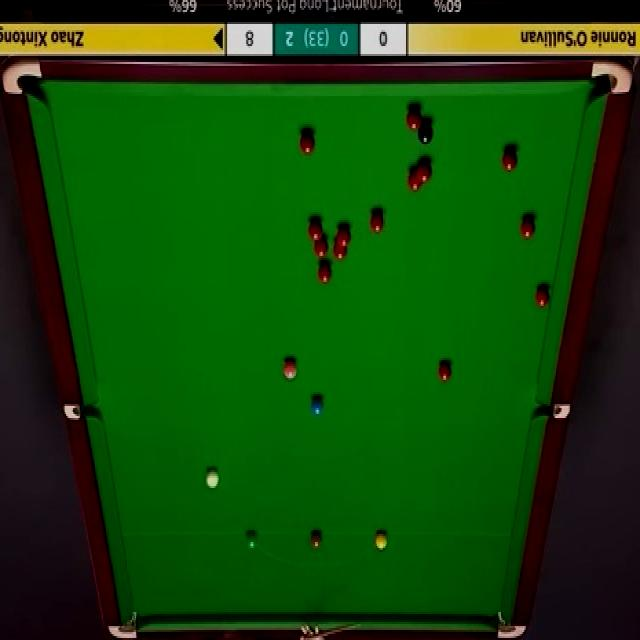pocket: (588, 57, 633, 94), (5, 58, 43, 97), (107, 608, 139, 640), (498, 609, 529, 640), (62, 402, 100, 423), (536, 405, 570, 420)
